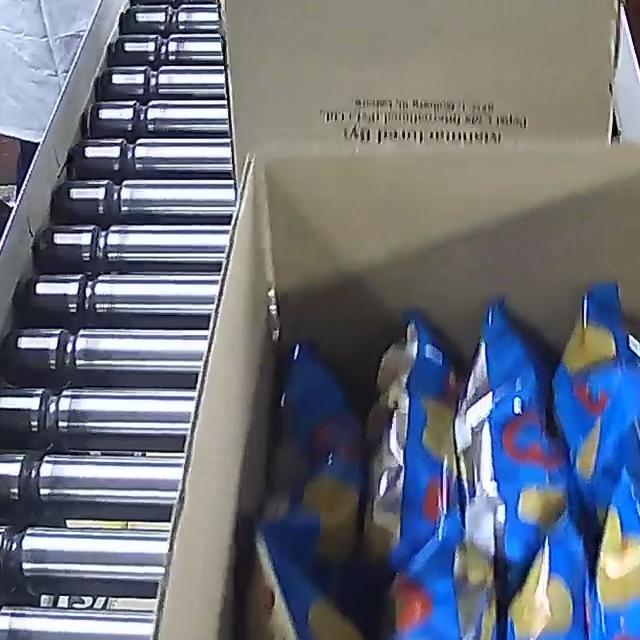paprika: (246, 280, 640, 640)
